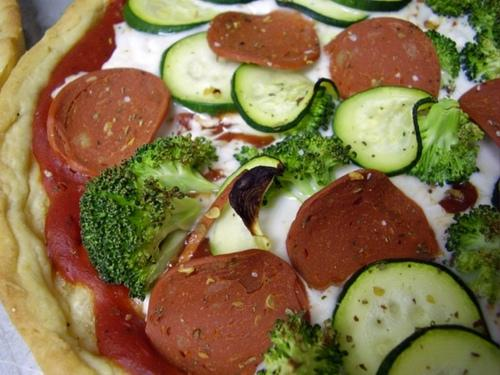broccoli: (78, 132, 221, 302), (406, 98, 484, 186), (260, 130, 352, 195), (441, 204, 500, 304), (260, 309, 348, 375), (424, 30, 460, 90), (425, 0, 477, 18)
cucumber: (331, 258, 492, 375), (332, 86, 436, 178), (230, 63, 339, 134), (160, 31, 243, 116), (377, 326, 500, 375), (123, 0, 280, 36), (216, 154, 284, 198), (274, 0, 370, 27), (331, 0, 414, 12), (205, 1, 252, 4)
